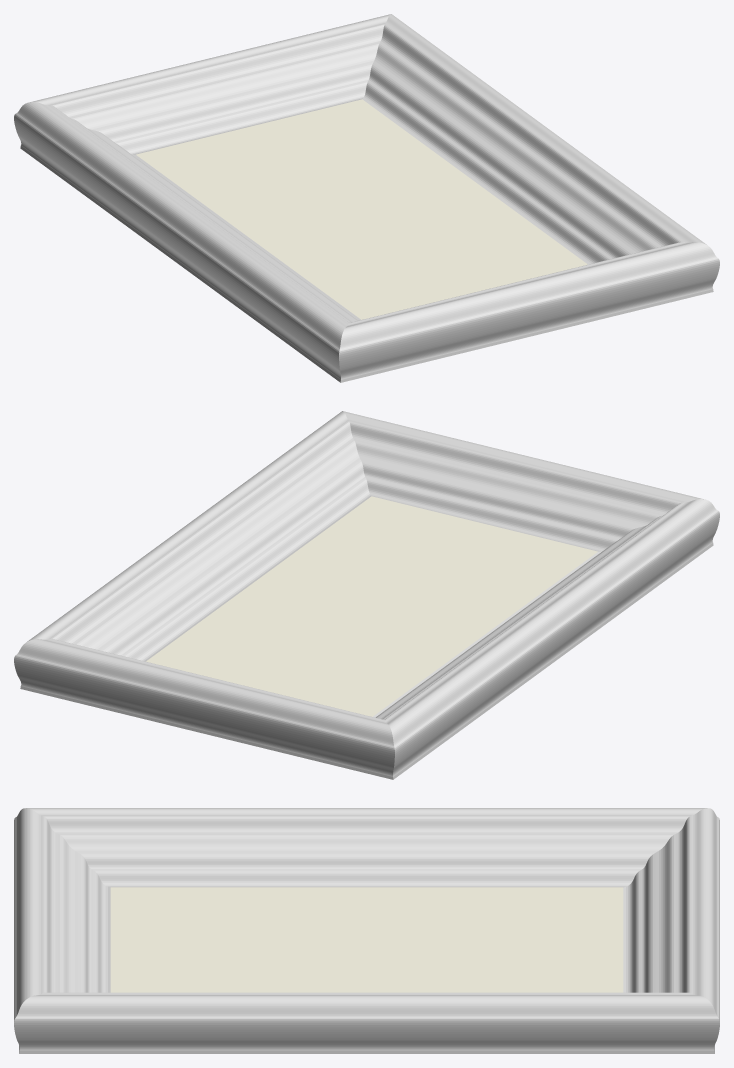
The model's file is Board.fbx.
The picture shows the model from 3 angles, top to bottom: view 1: azimuth 30°, elevation 25°; view 2: azimuth 150°, elevation 25°; view 3: azimuth 270°, elevation 25°; orthographic projection. The views are drawn at different scales.
Parts seen in each view (by area): view 1: 平面; view 2: 平面; view 3: 平面.
Boxes of the visible parts, left/top/right/bottom form: 平面: left=14, top=14, right=719, bottom=382; 平面: left=14, top=411, right=719, bottom=779; 平面: left=14, top=808, right=719, bottom=1053.
Size of the model in its own units: 232 by 27.97 by 343.
